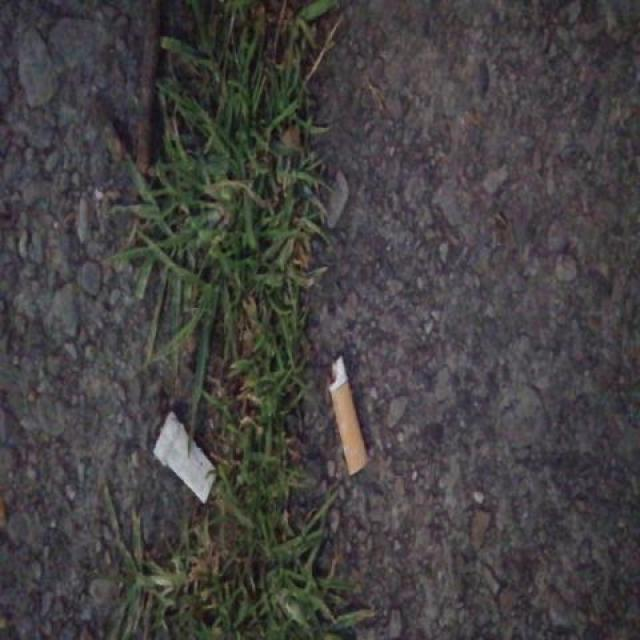non-organic waste: (150, 407, 227, 509), (323, 352, 373, 480)
